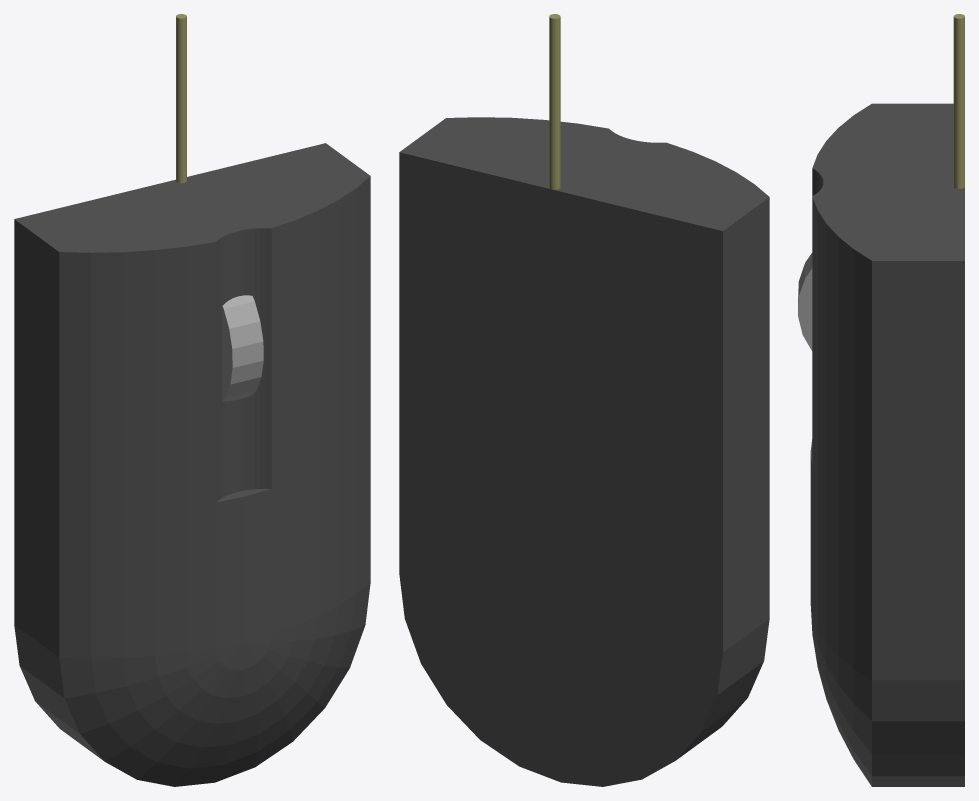
The picture shows the model from 3 angles, left to right: view 1: azimuth 30°, elevation 25°; view 2: azimuth 150°, elevation 25°; view 3: azimuth 270°, elevation 25°; orthographic projection. The views are drawn at different scales.
Parts seen in each view (by area): view 1: mouse; view 2: mouse; view 3: mouse.
Part boxes in pixels (bbox=[...]): mouse: bbox=[14, 14, 370, 786]; mouse: bbox=[399, 14, 769, 786]; mouse: bbox=[798, 14, 964, 786].
Size of the model in its own units: 2 by 4.5 by 0.8977.
